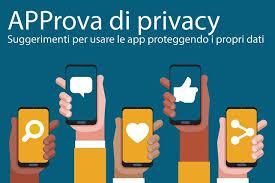Hand: (60, 63, 107, 136), (157, 79, 217, 121), (221, 118, 267, 172), (115, 120, 172, 163), (9, 120, 59, 162)
Smartphone: (57, 63, 97, 125), (223, 107, 264, 166), (17, 105, 51, 165), (119, 107, 152, 168), (170, 64, 198, 126)
